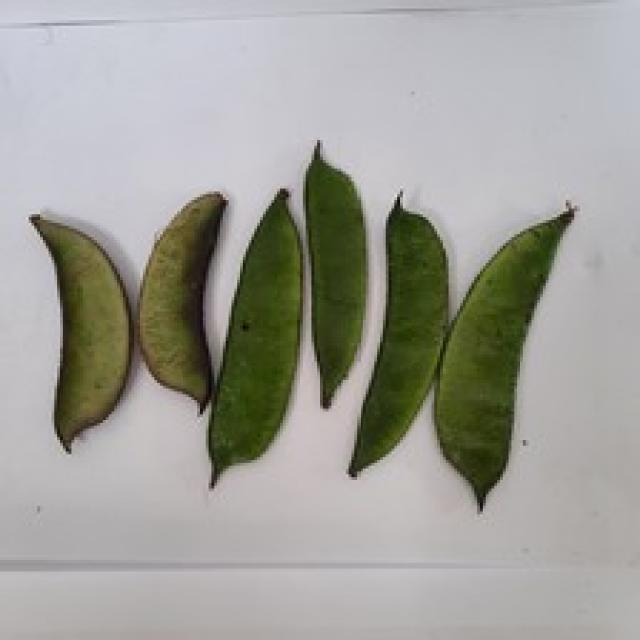Bean: (346, 189, 448, 477), (206, 186, 303, 488), (26, 212, 131, 452), (134, 189, 226, 414), (303, 137, 366, 409)
